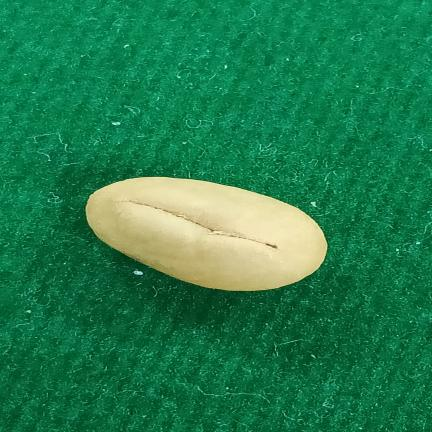parchment: (86, 177, 327, 291)
